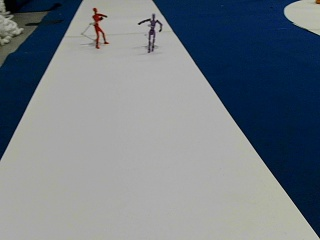pedestrian: (138, 12, 162, 50), (91, 6, 108, 47)
